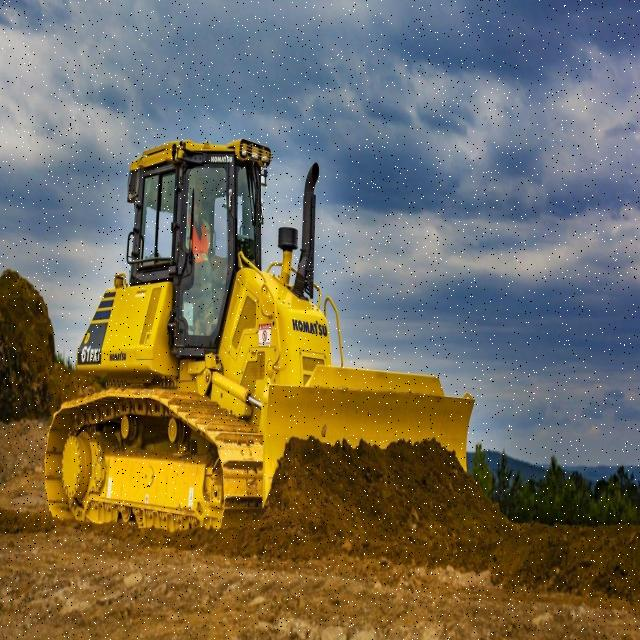Bulldozer: (34, 118, 484, 560)
